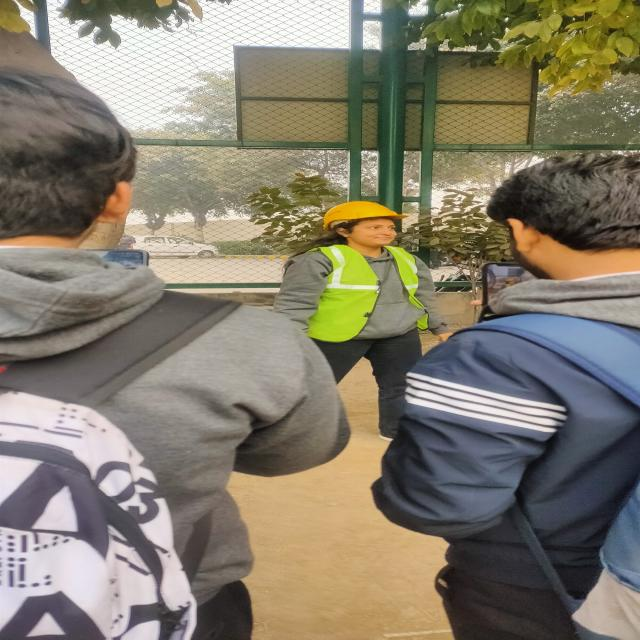safe: (296, 202, 426, 452)
unsafe: (0, 83, 314, 640), (439, 156, 640, 635)
